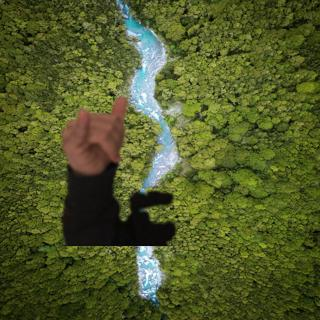HAVE: (53, 91, 134, 181)
